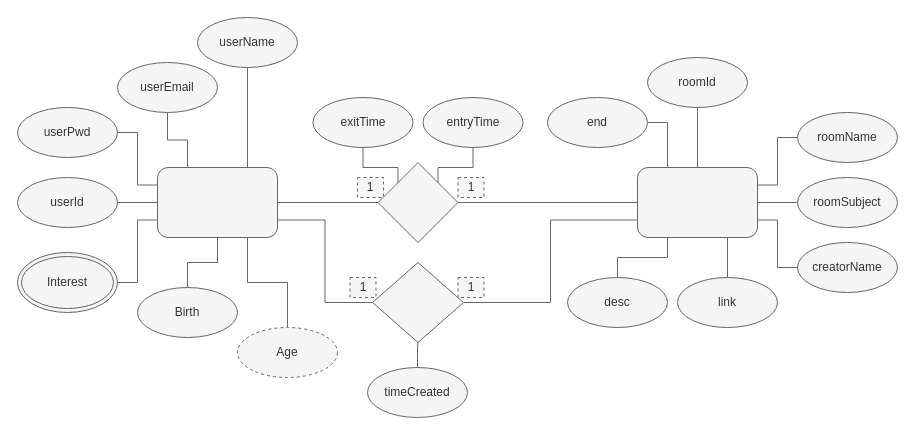
Image size: 915x435. Some labels were removed from this diagram. The centre of each missing label's shape, as x and y in pixels:
"CREATE" belongs at point (418, 302).
"JOIN" belongs at point (417, 202).
"ROOM" belongs at point (697, 202).
"USERS" belongs at point (217, 202).
